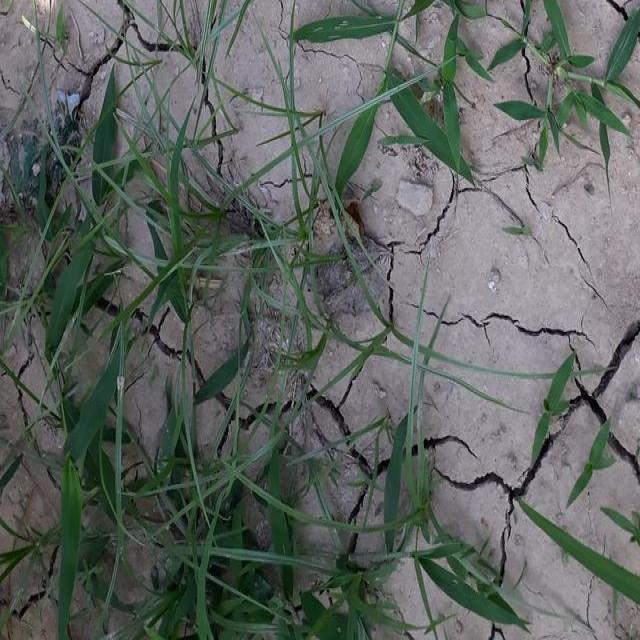weed: (49, 56, 356, 640), (293, 0, 475, 184), (323, 417, 499, 605)
